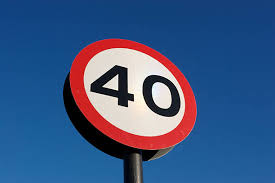Speed_limit_40km: (69, 38, 198, 150)
